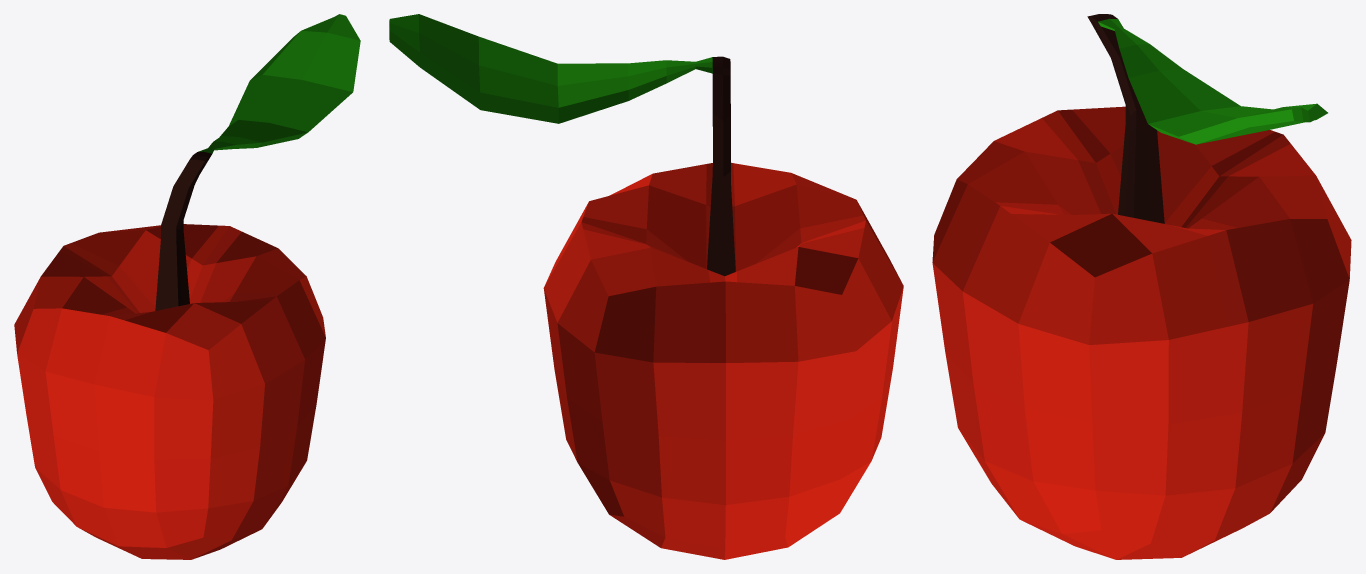
Rendered from Apple 2.fbx.
3 renders of one model, left to right at view 1: azimuth 30°, elevation 25°; view 2: azimuth 150°, elevation 25°; view 3: azimuth 270°, elevation 25°, orthographic. The views are drawn at different scales.
Parts seen in each view (by area): view 1: Node 0; view 2: Node 0; view 3: Node 0.
Boxes of the visible parts, box(x1,y1,x2,y2) form: Node 0: box(14, 14, 360, 559); Node 0: box(389, 14, 903, 559); Node 0: box(932, 14, 1351, 559).
Size of the model in its own units: 0.1039 by 0.1567 by 0.1413.
